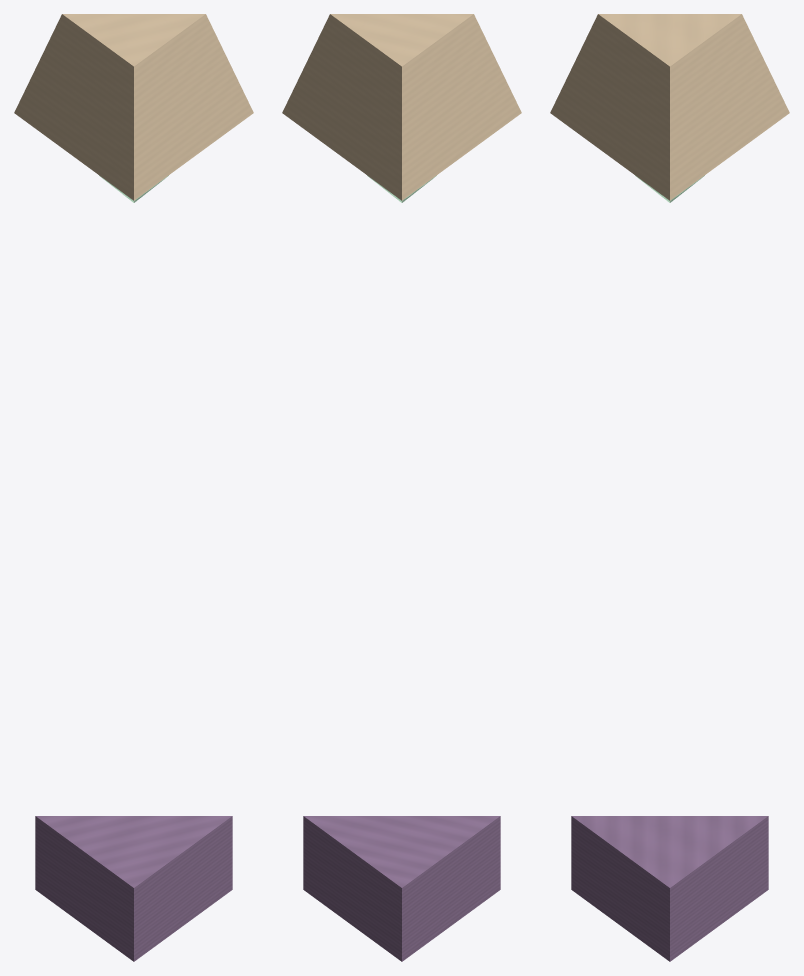
File: atlas100-papercraft-util01.lod2.glb
The picture shows the model from 3 angles, left to right: view 1: azimuth 30°, elevation 25°; view 2: azimuth 150°, elevation 25°; view 3: azimuth 270°, elevation 25°; orthographic projection.
Visible parts, largest first — view 1: atlas100-papercraft-util01:part-002, atlas100-papercraft-util01:part-000; view 2: atlas100-papercraft-util01:part-002, atlas100-papercraft-util01:part-000; view 3: atlas100-papercraft-util01:part-002, atlas100-papercraft-util01:part-000.
Boxes of the visible parts, box(x1,y1,x2,y2) form: atlas100-papercraft-util01:part-002: box(14, 14, 253, 200); atlas100-papercraft-util01:part-000: box(35, 816, 232, 961); atlas100-papercraft-util01:part-002: box(282, 14, 521, 200); atlas100-papercraft-util01:part-000: box(303, 816, 500, 961); atlas100-papercraft-util01:part-002: box(550, 14, 789, 200); atlas100-papercraft-util01:part-000: box(571, 816, 768, 961).
Bounding box in the file's own units: 0.5569 × 2.61 × 0.6431.
3 materials, 3 textured.
